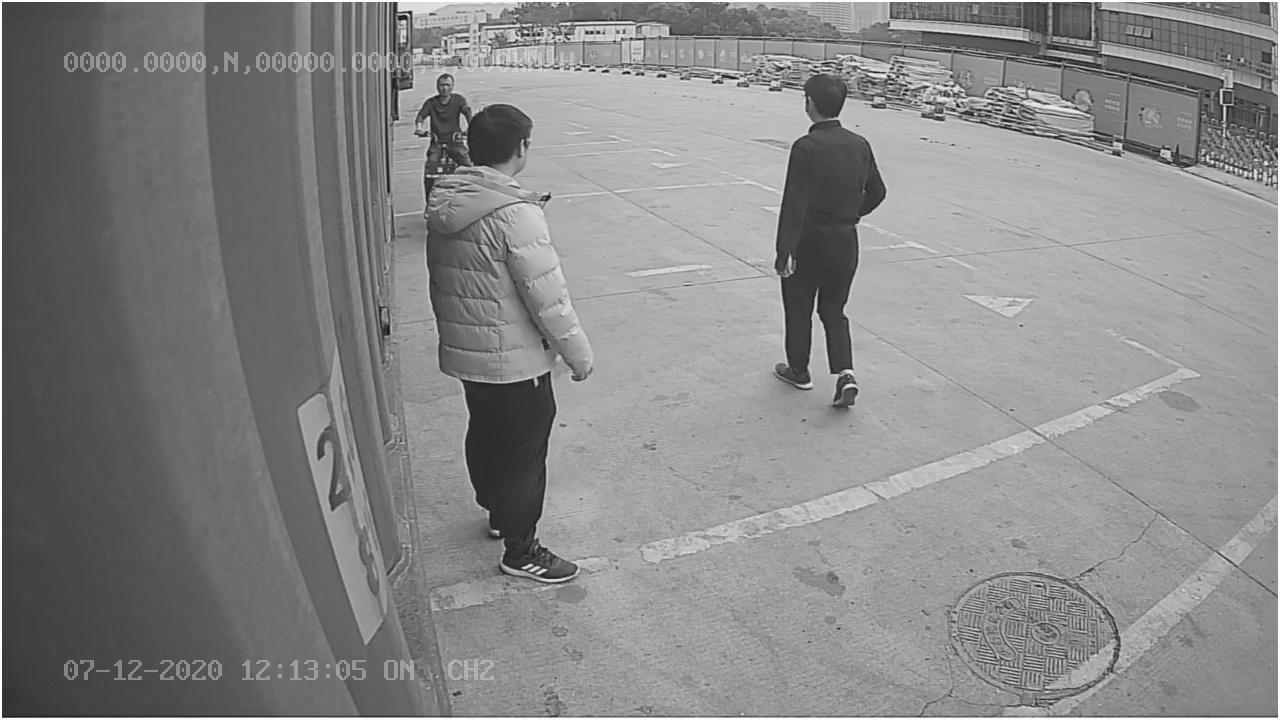person: (768, 70, 886, 412)
